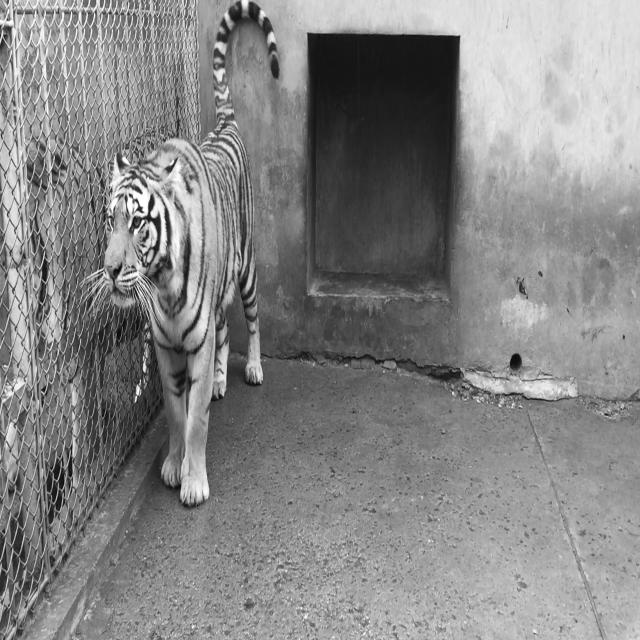Tiger: (79, 0, 280, 507)
